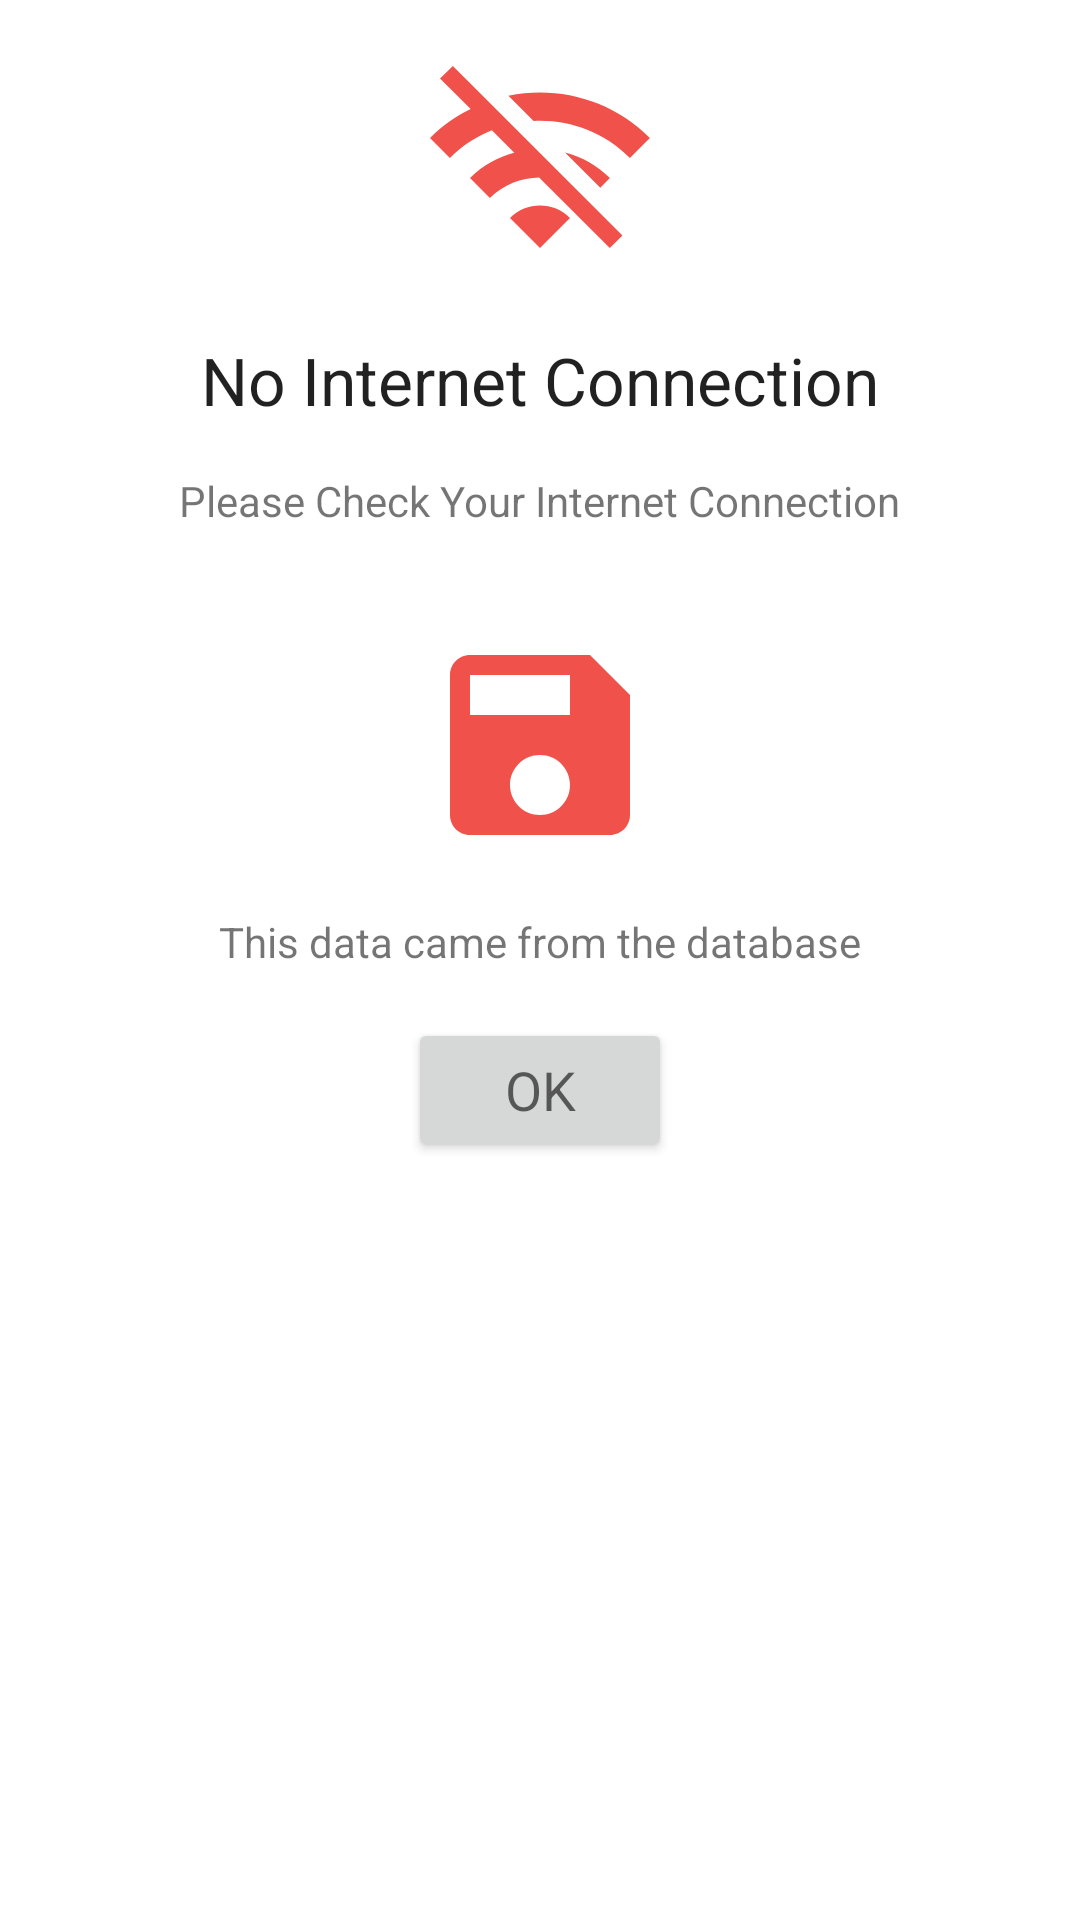

Icons on this 1080x1920 Android screen, each with the point to tap as (x,y):
save: (540,745)
